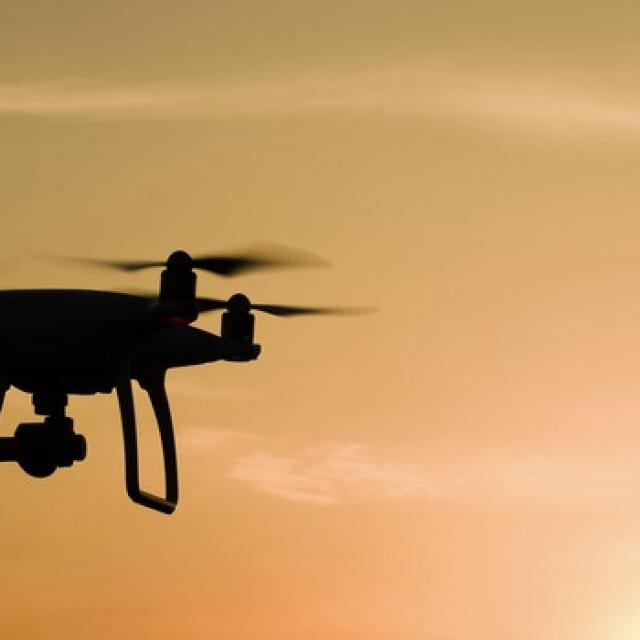drone: (0, 225, 355, 448)
